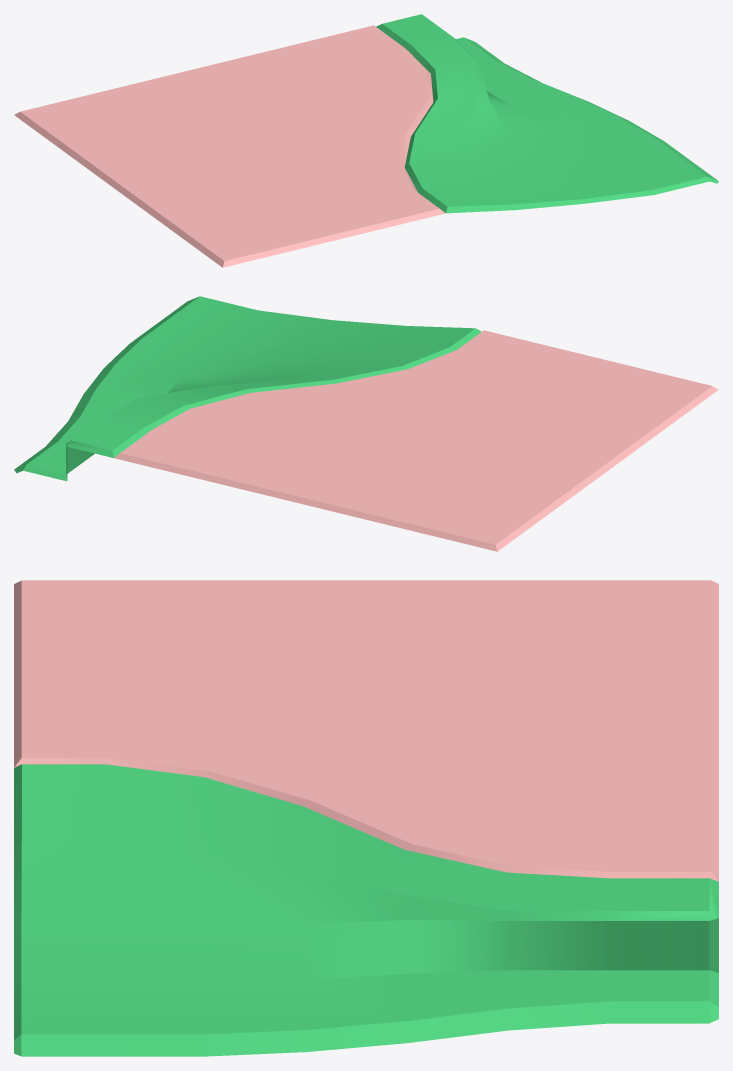
Rendered from mesh_Paving_DrivewayRight_v1.3.fbx.
3 renders of one model, top to bottom at view 1: azimuth 30°, elevation 25°; view 2: azimuth 150°, elevation 25°; view 3: azimuth 270°, elevation 25°, orthographic. The views are drawn at different scales.
Parts seen in each view (by area): view 1: mesh_Paving_DrivewayRight; view 2: mesh_Paving_DrivewayRight; view 3: mesh_Paving_DrivewayRight.
Part boxes in pixels (left/top/right/bottom): mesh_Paving_DrivewayRight: left=14, top=14, right=718, bottom=267; mesh_Paving_DrivewayRight: left=14, top=296, right=718, bottom=551; mesh_Paving_DrivewayRight: left=14, top=580, right=718, bottom=1056.
Size of the model in its own units: 138 by 10.77 by 100.
